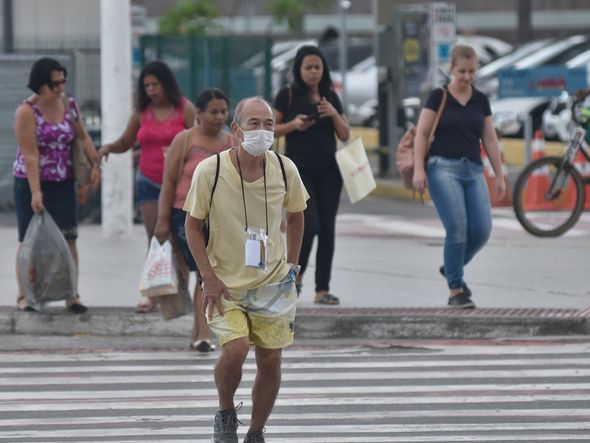with_mask: (233, 118, 278, 159)
without_mask: (202, 102, 228, 129), (454, 57, 477, 86), (141, 76, 163, 102), (302, 57, 324, 83)
